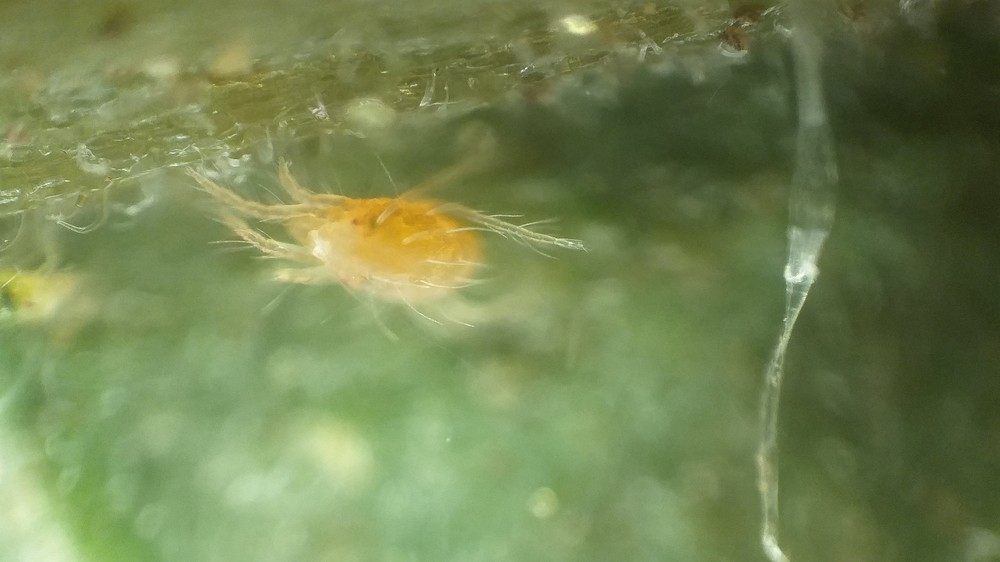Aracnido Rojo: (185, 135, 621, 362)
